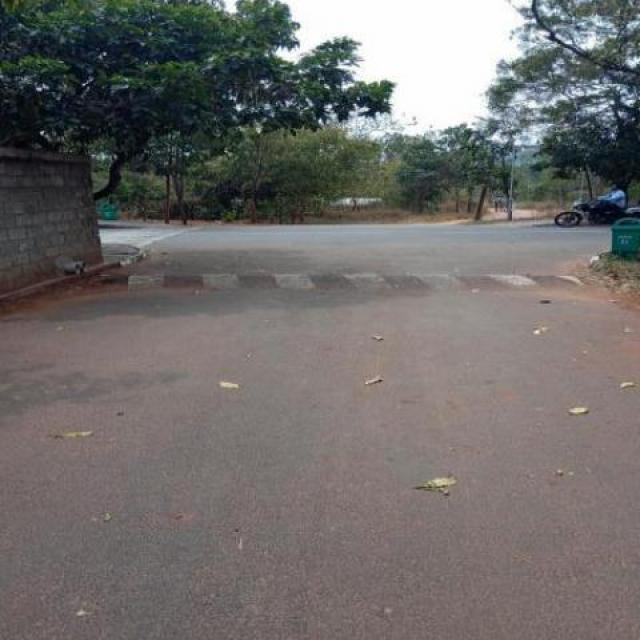Speed Bump: (85, 270, 612, 292)
